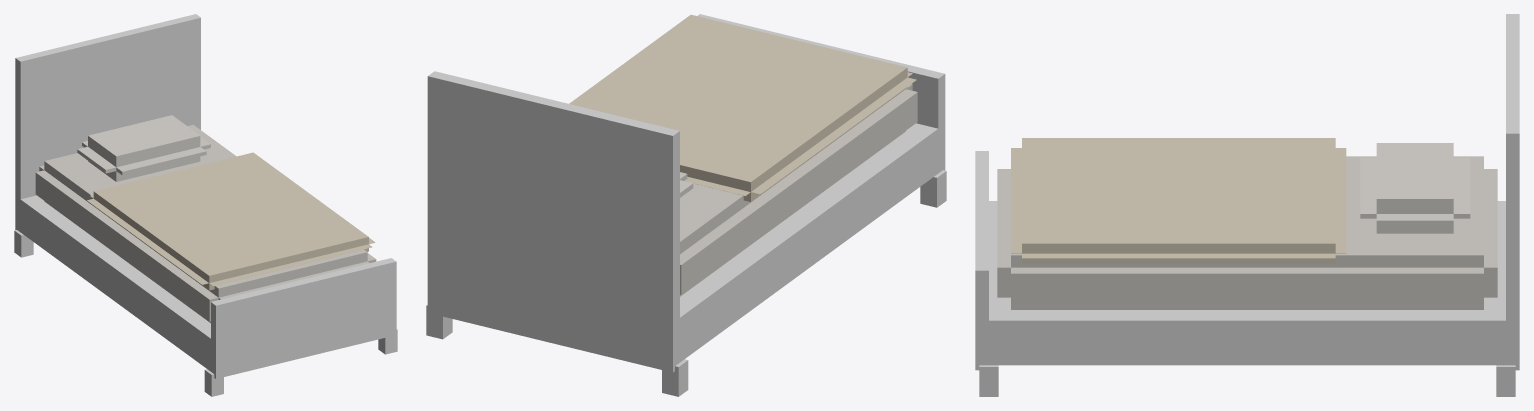
File: bed-single-cream.glb
3 views of the same model, side by side, from view 1: azimuth 30°, elevation 25°; view 2: azimuth 150°, elevation 25°; view 3: azimuth 270°, elevation 25° (orthographic). The views are drawn at different scales.
Parts seen in each view (by area): view 1: bed-single-cream; view 2: bed-single-cream; view 3: bed-single-cream.
Part boxes in pixels (x1,y1,x2,y2): bed-single-cream: (14,14,397,396); bed-single-cream: (426,14,946,396); bed-single-cream: (975,14,1519,396).
Bounding box in the file's own units: 1.22 × 1.21 × 2.28.
